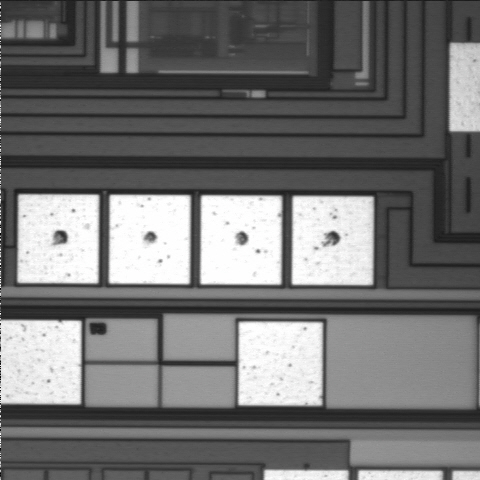pad: (200, 195, 282, 285), (109, 195, 190, 284), (292, 196, 373, 285), (18, 195, 99, 283), (238, 322, 323, 405)
